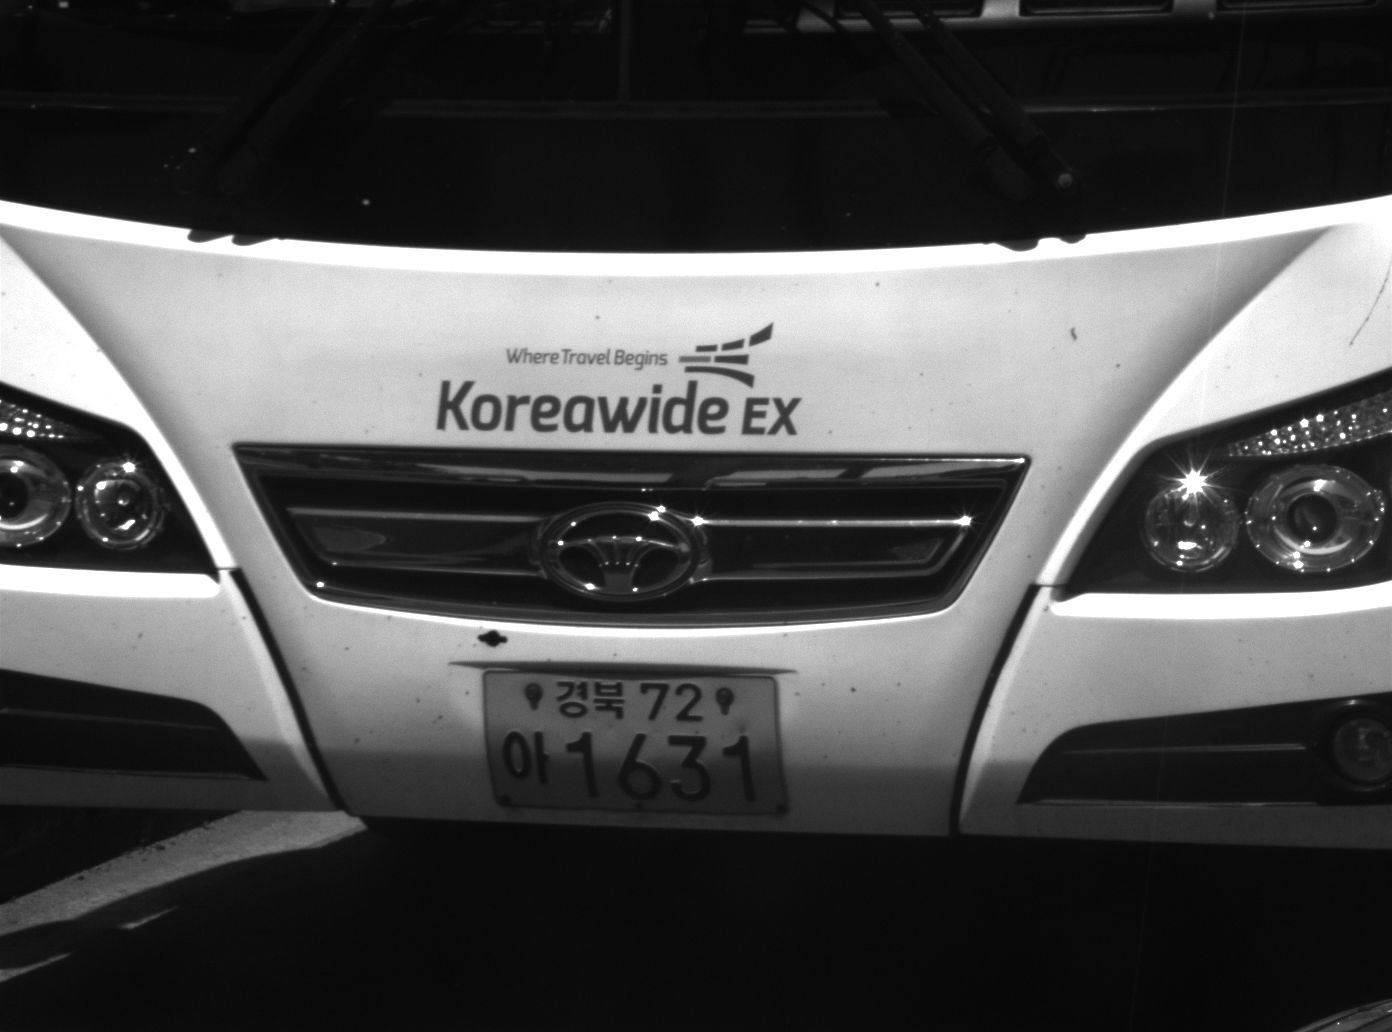car: (2, 1, 1392, 857)
plate: (479, 666, 792, 818)
